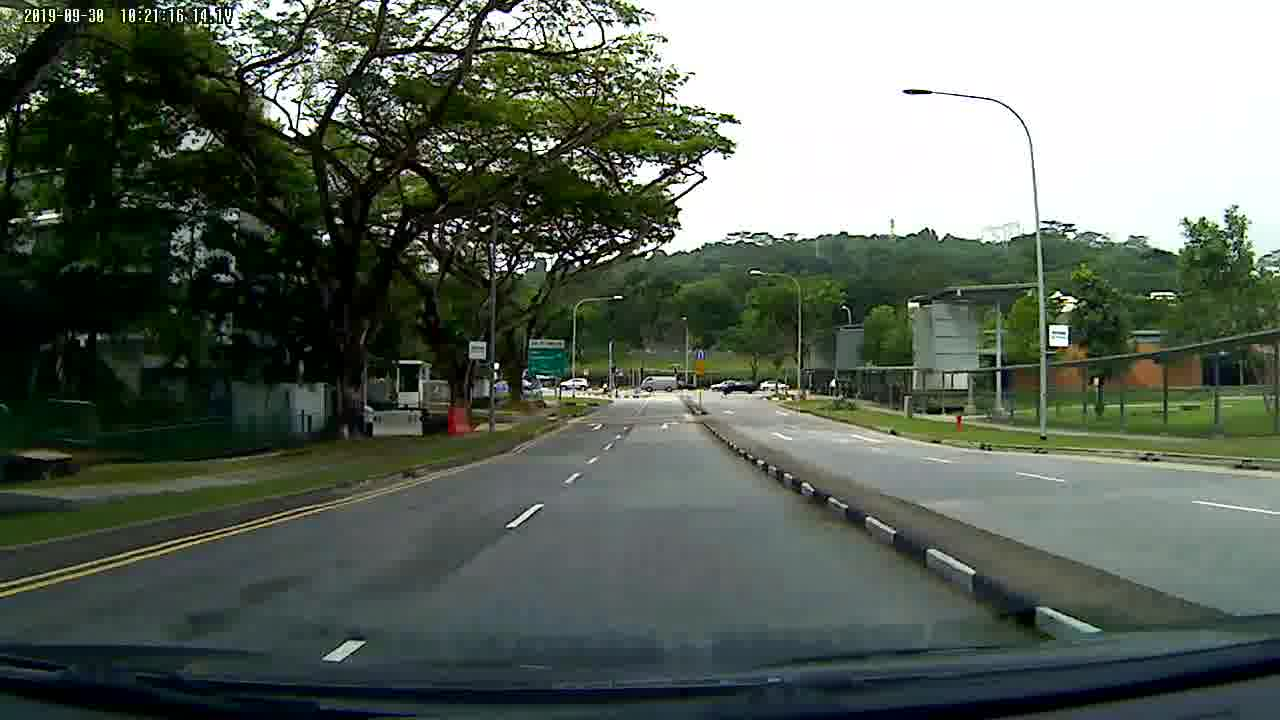car: (559, 377, 589, 390), (760, 379, 790, 392)
